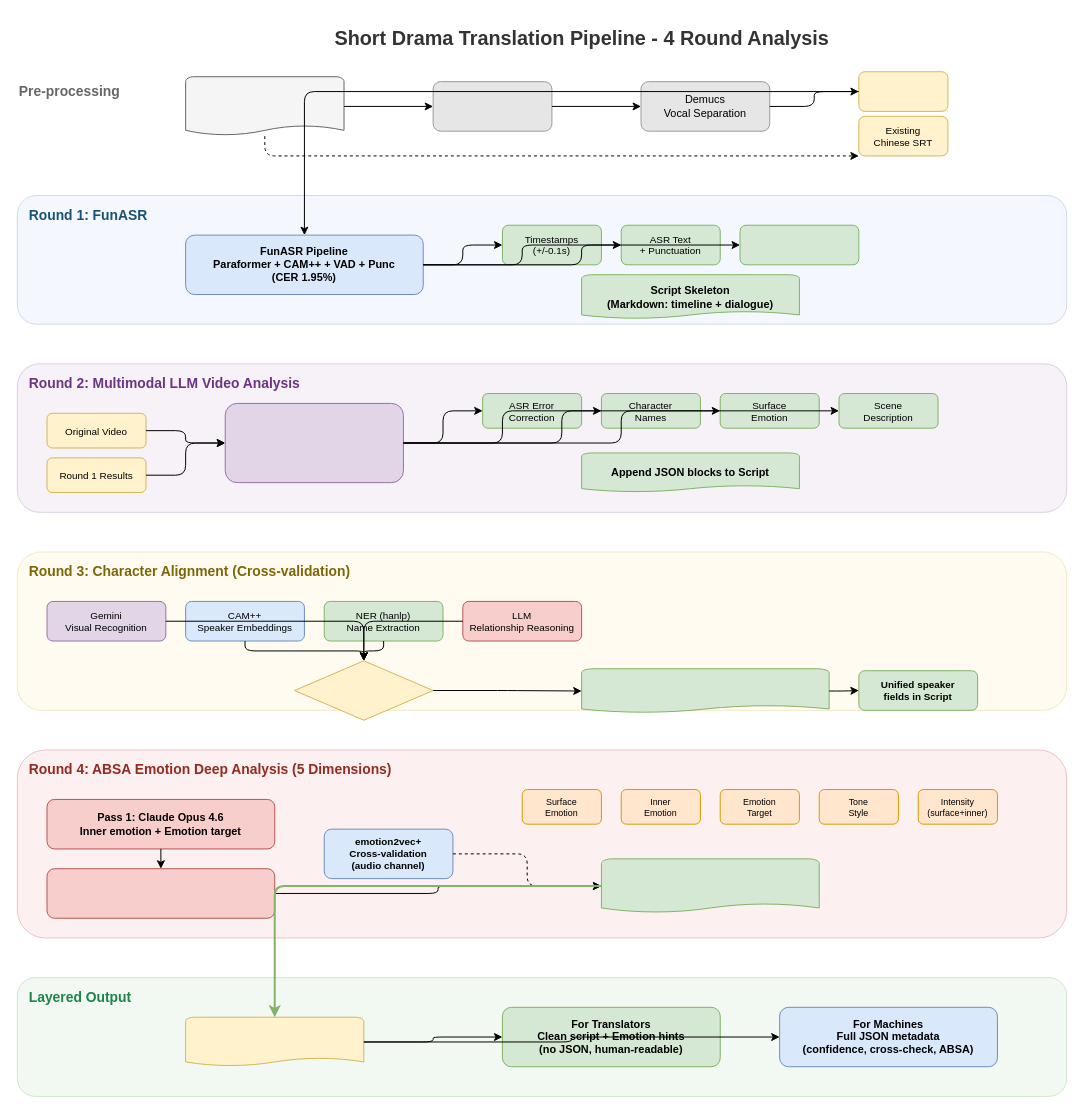
This 1084x1114 diagram has some shape labels left out. The centre of each missing label's shape, as x and y in pixels:
5-Dimension ABSA Emotion Annotations (appended to Script): point 709,885
character_registry.json {name, title, aliases[], speaker_id}: point 705,690
Complete Script (Markdown + JSON): point 274,1041
Cross-validation and Fusion: point 363,690
FFmpeg Extract Audio: point 492,106
Gemini 3.1 Pro (primary) GPT-5.4 / Kimi K2.5 (fallback): point 313,442
Pass 2: Claude Opus 4.6 Tone style + Surface-inner contrast: point 160,893
Separated Vocals: point 903,91
Speaker Clusters SPK_01, SPK_02...: point 799,244
Video File (with Chinese SRT): point 264,106
